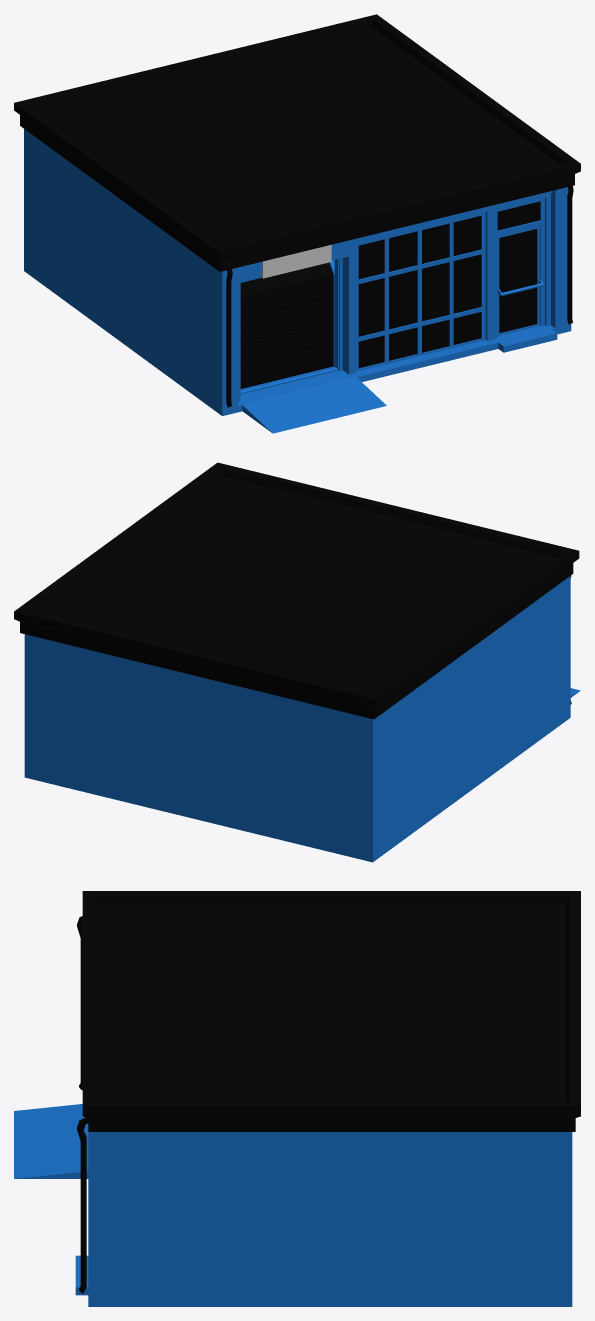
The model's file is SM_Postal_office.fbx.
3 renders of one model, top to bottom at view 1: azimuth 30°, elevation 25°; view 2: azimuth 150°, elevation 25°; view 3: azimuth 270°, elevation 25°, orthographic. The views are drawn at different scales.
Parts seen in each view (by area): view 1: Cylinder_3, Cube_13, Cube_6, Cube_4; view 2: Cylinder_3, Cube_13; view 3: Cylinder_3, Cube_13.
Boxes of the visible parts, bbox=[...] form: Cylinder_3: bbox=[14, 14, 580, 407]; Cube_13: bbox=[24, 129, 571, 433]; Cube_6: bbox=[240, 262, 333, 388]; Cube_4: bbox=[497, 225, 543, 335]; Cylinder_3: bbox=[14, 462, 579, 719]; Cube_13: bbox=[24, 576, 580, 862]; Cylinder_3: bbox=[77, 891, 580, 1293]; Cube_13: bbox=[14, 1104, 572, 1306].
Size of the model in its own units: 838 by 369 by 930.
